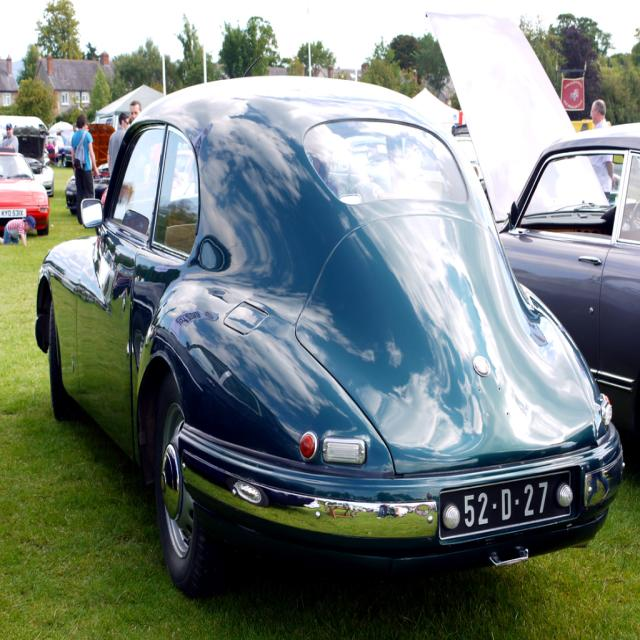car: (48, 35, 614, 594)
